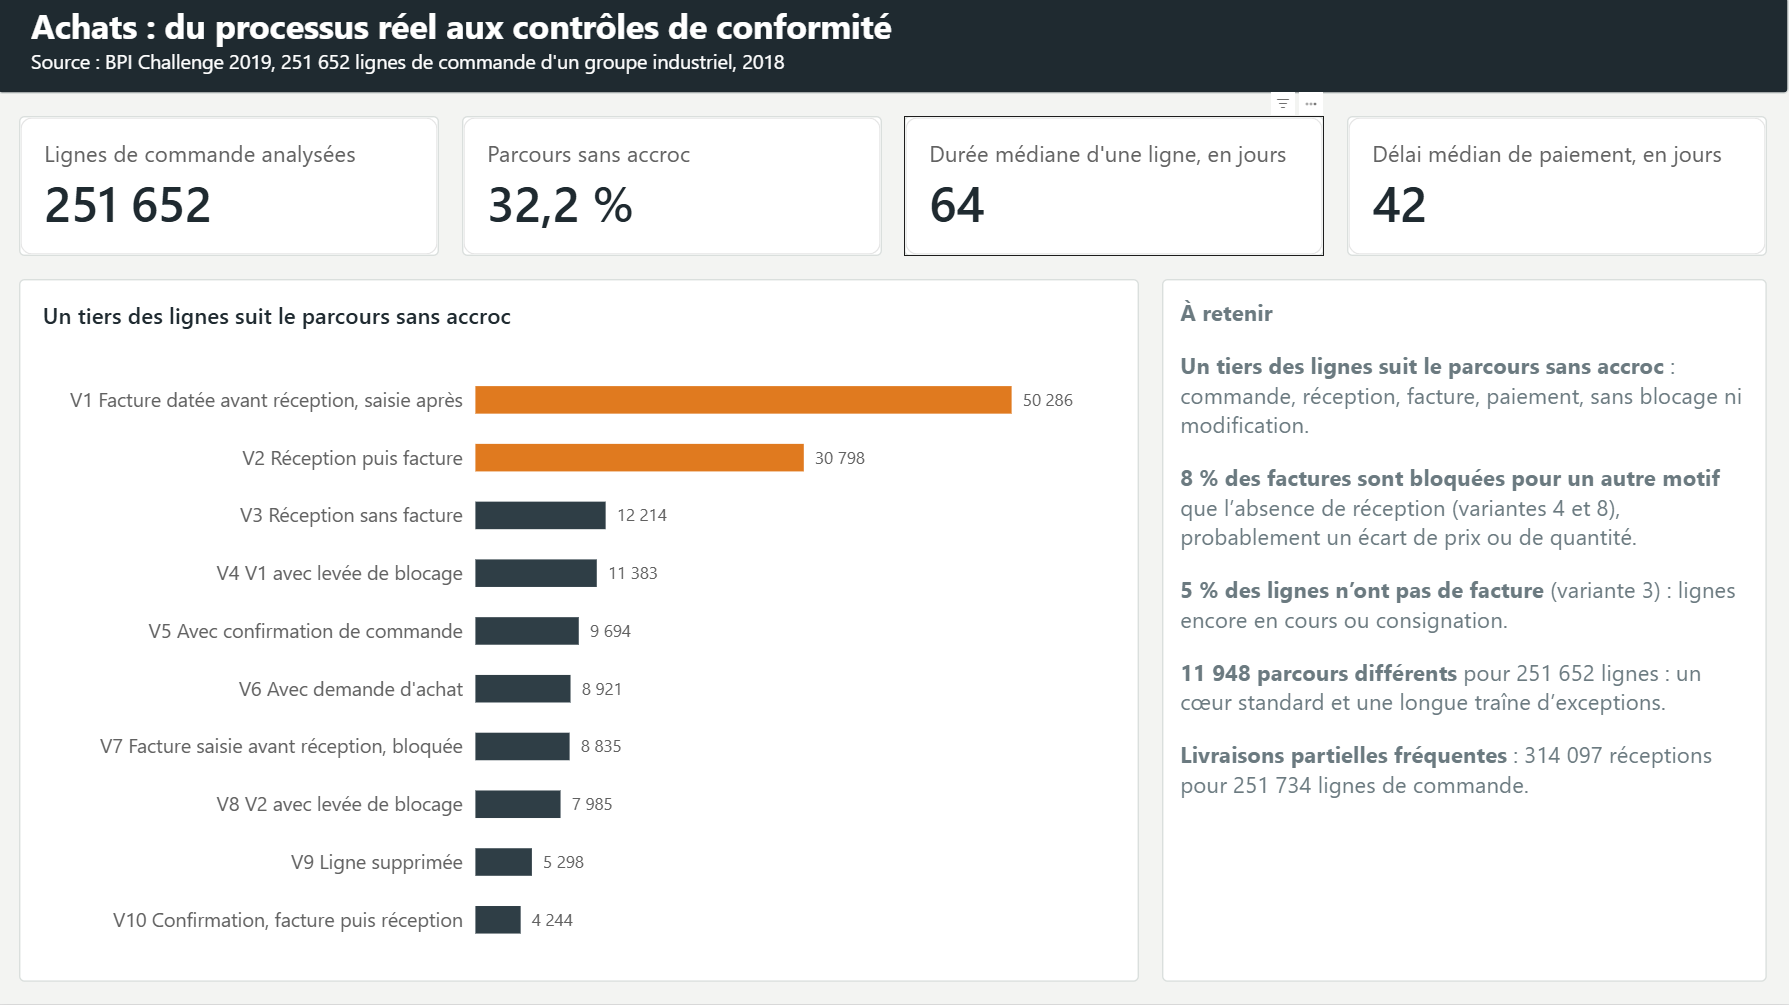

The page's visual inventory and layout, read from the dashboard file:
{"tool":"powerbi","page":{"name":"Le processus d'achat réel","canvas":[1280,720],"ordinal":0},"visuals":[{"type":"shape","box":[0,0,1280,70],"z":0},{"type":"textbox","box":[24,5,900,60],"z":1000},{"type":"cardVisual","fields":{"Data":["controles.Lignes"]},"box":[16,86,300,100],"z":2000},{"type":"cardVisual","fields":{"Data":["controles.Part parcours idéal"]},"box":[332,86,300,100],"z":3000},{"type":"cardVisual","fields":{"Data":["controles.Durée médiane"]},"box":[648,86,300,100],"z":4000},{"type":"cardVisual","fields":{"Data":["controles.Délai paiement médian"]},"box":[964,86,300,100],"z":5000},{"type":"clusteredBarChart","title":"Un tiers des lignes suit le parcours sans accroc","fields":{"Category":["controles.variante"],"Y":["controles.Lignes"]},"box":[16,202,800,502],"z":6000},{"type":"textbox","box":[832,202,432,502],"z":7000}]}

Visuals, with their boxes in screenshot pixels (x1, y1, x2, y2), scaled from the page's 1280x720 canvas onto the 1789x1005 screenshot:
shape: select_region(0, 0, 1788, 98)
textbox: select_region(34, 7, 1291, 91)
cardVisual - controles.Lignes: select_region(22, 120, 442, 260)
cardVisual - controles.Part parcours idéal: select_region(464, 120, 883, 260)
cardVisual - controles.Durée médiane: select_region(906, 120, 1325, 260)
cardVisual - controles.Délai paiement médian: select_region(1347, 120, 1767, 260)
"Un tiers des lignes suit le parcours sans accroc" clusteredBarChart: select_region(22, 282, 1140, 983)
textbox: select_region(1163, 282, 1767, 983)
